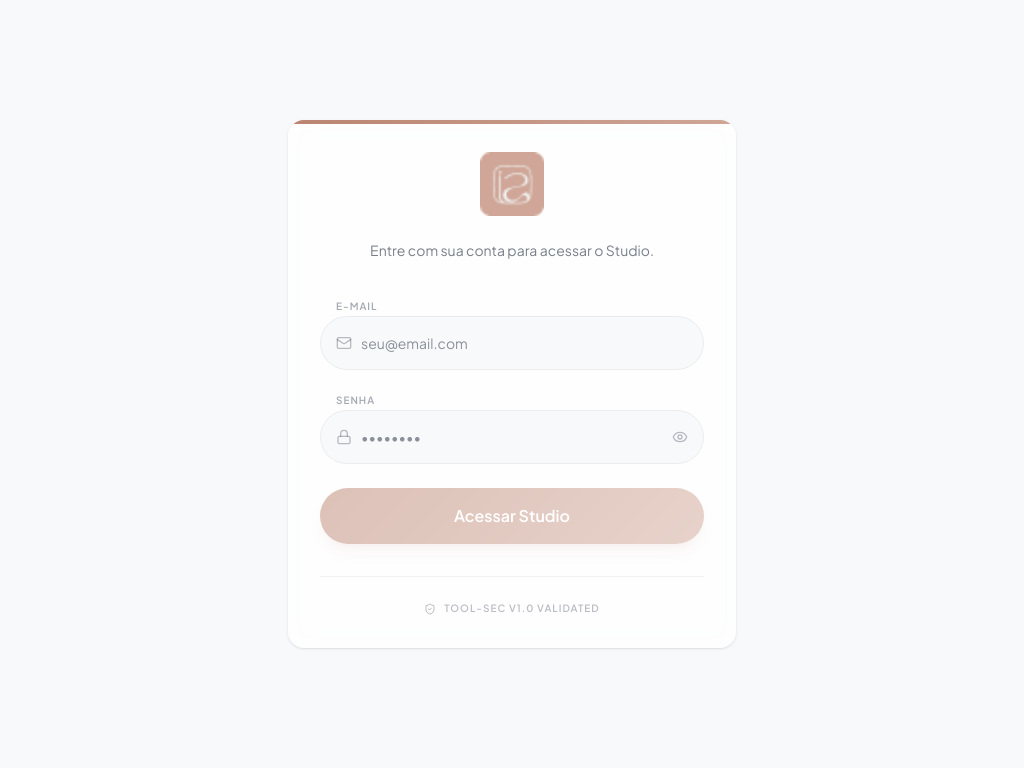
Test: AuthGate › shows loading state while authenticating
Step 1. Type "paulo@teste.com" into the field with placeholder "seu@email.com" → [512, 343], box [320, 316, 704, 370]
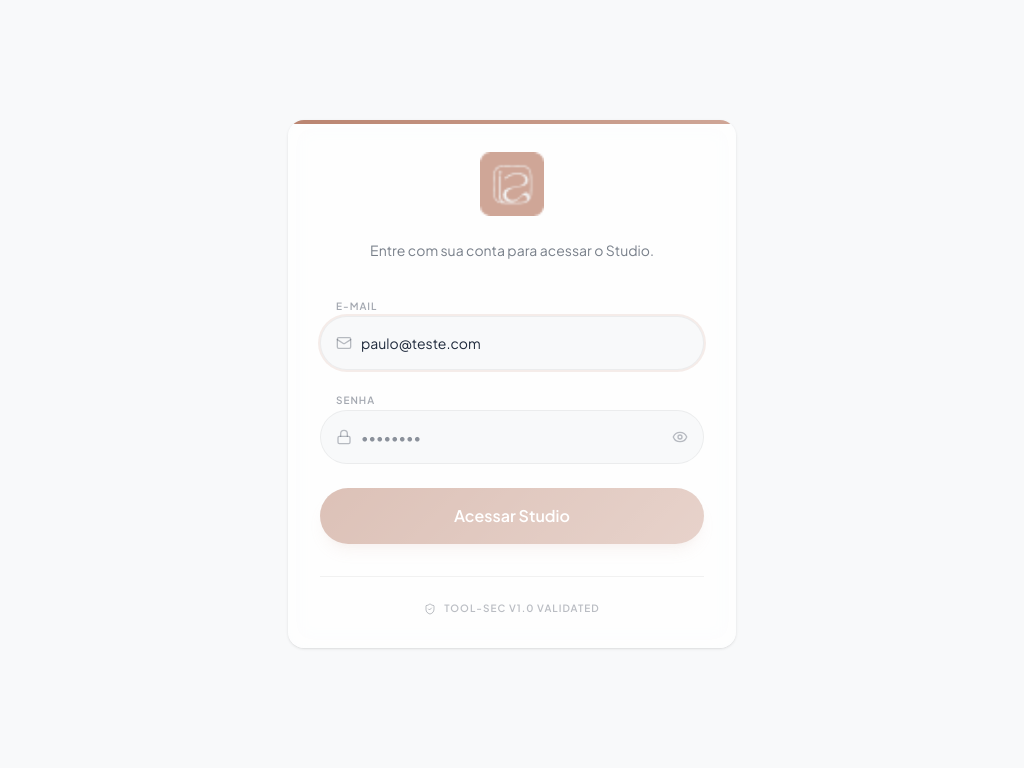
Step 2. Type "senha123" into the password field with placeholder "••••••••" → [512, 437], box [320, 410, 704, 464]
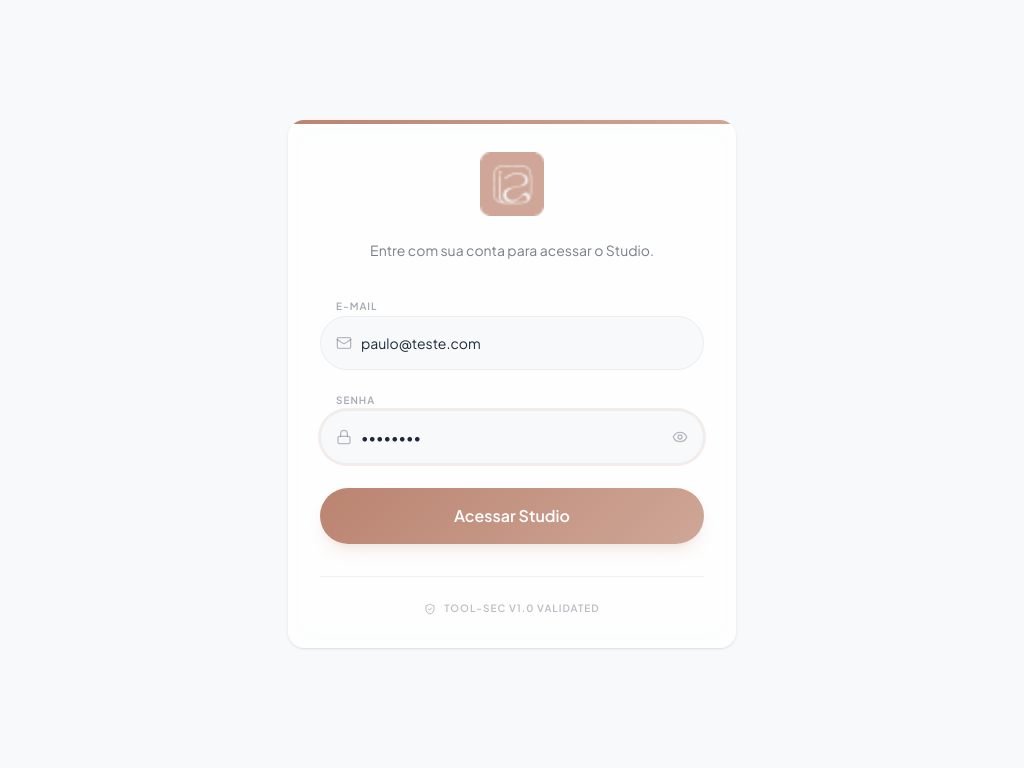
Step 3. Click the button "Acessar Studio" → [512, 516], box [320, 488, 704, 544]
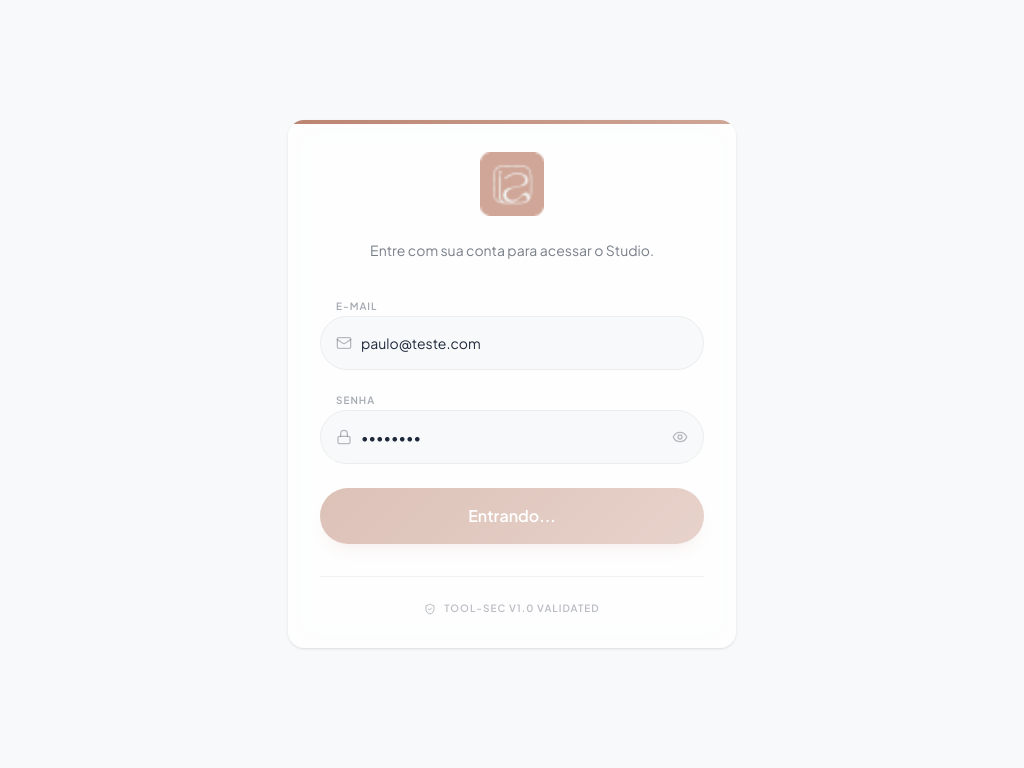
Expected: the button "Entrando..." is disabled, [320, 488, 704, 544]
